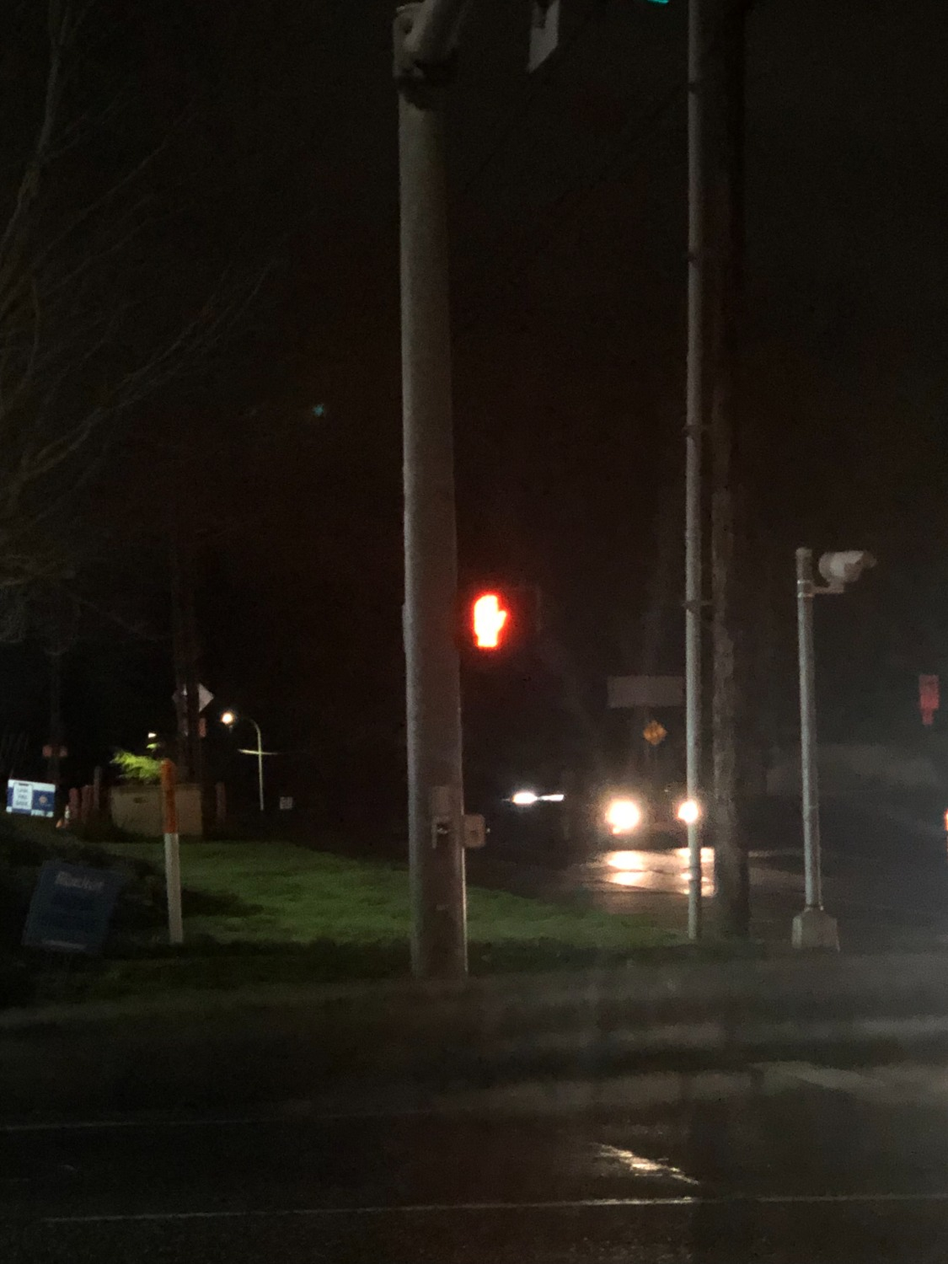pedestrian_stop: (468, 586, 521, 652)
pole: (394, 0, 467, 979), (698, 0, 753, 937), (793, 548, 875, 947), (162, 758, 183, 944)
